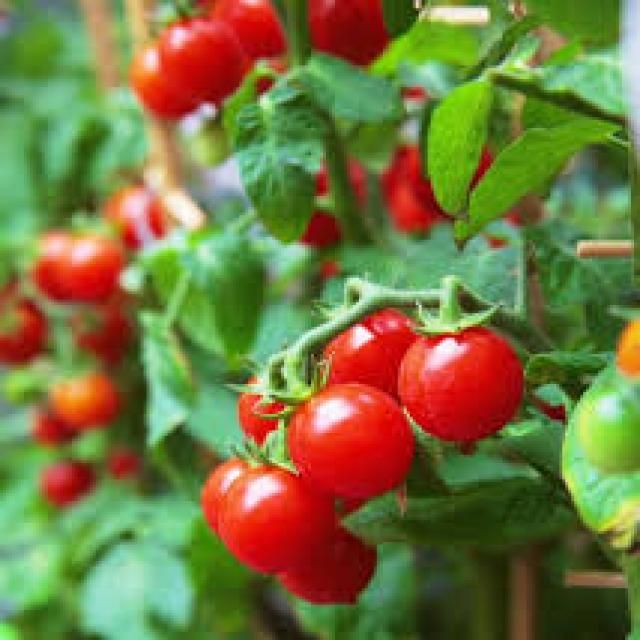organic waste: (254, 351, 413, 512), (437, 117, 613, 242), (212, 427, 335, 572), (398, 322, 517, 442), (227, 106, 311, 251), (418, 71, 494, 226), (308, 46, 407, 161), (314, 297, 416, 400), (269, 512, 377, 605), (227, 346, 308, 449), (156, 8, 242, 104), (281, 158, 365, 245), (260, 65, 332, 161), (200, 438, 266, 540), (122, 30, 198, 114), (189, 0, 284, 57), (412, 136, 488, 207), (299, 0, 386, 60), (51, 224, 126, 292), (47, 368, 116, 430), (68, 299, 125, 356), (30, 229, 78, 294), (0, 283, 39, 360), (380, 174, 430, 234), (108, 180, 156, 242), (518, 370, 566, 420), (36, 458, 90, 498), (610, 314, 637, 371), (72, 425, 114, 460), (484, 202, 520, 240), (30, 411, 69, 441), (377, 142, 413, 174), (108, 449, 134, 468), (314, 254, 329, 272)
